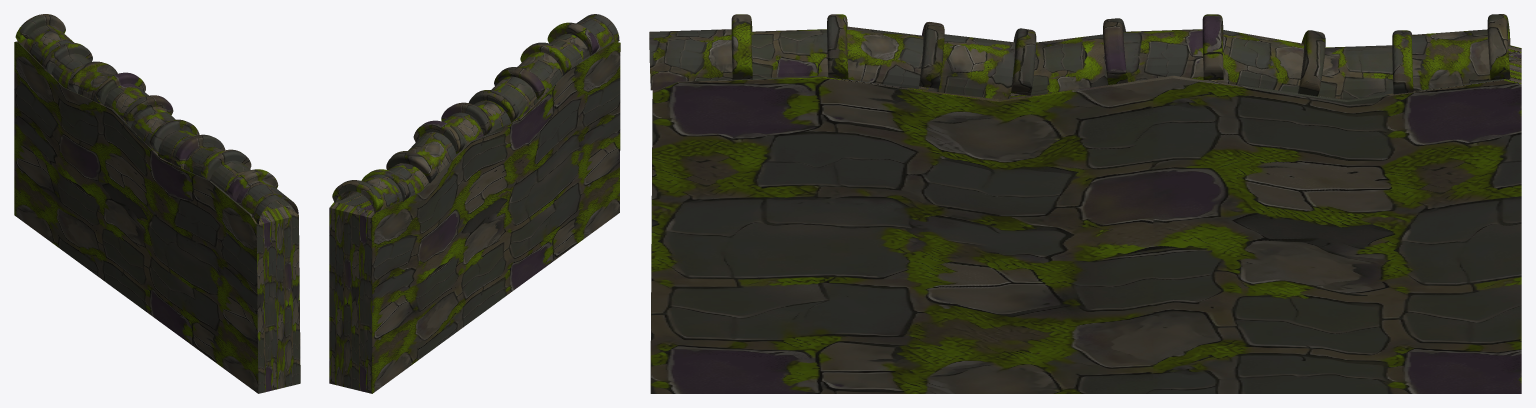
File: final wall.fbx
3 views of the same model, side by side, from view 1: azimuth 30°, elevation 25°; view 2: azimuth 150°, elevation 25°; view 3: azimuth 270°, elevation 25° (orthographic). The views are drawn at different scales.
Visible parts, largest first — view 1: Cube, Cylinder; view 2: Cube, Cylinder; view 3: Cube, Cylinder.
Part boxes in pixels (box(x1,y1,x2,y2)): Cube: box(14, 41, 300, 393); Cylinder: box(15, 14, 298, 224); Cube: box(329, 41, 620, 393); Cylinder: box(332, 14, 619, 213); Cube: box(650, 45, 1521, 393); Cylinder: box(649, 14, 1510, 99).
Bounding box in the file's own units: 53.78 × 225 × 501.
